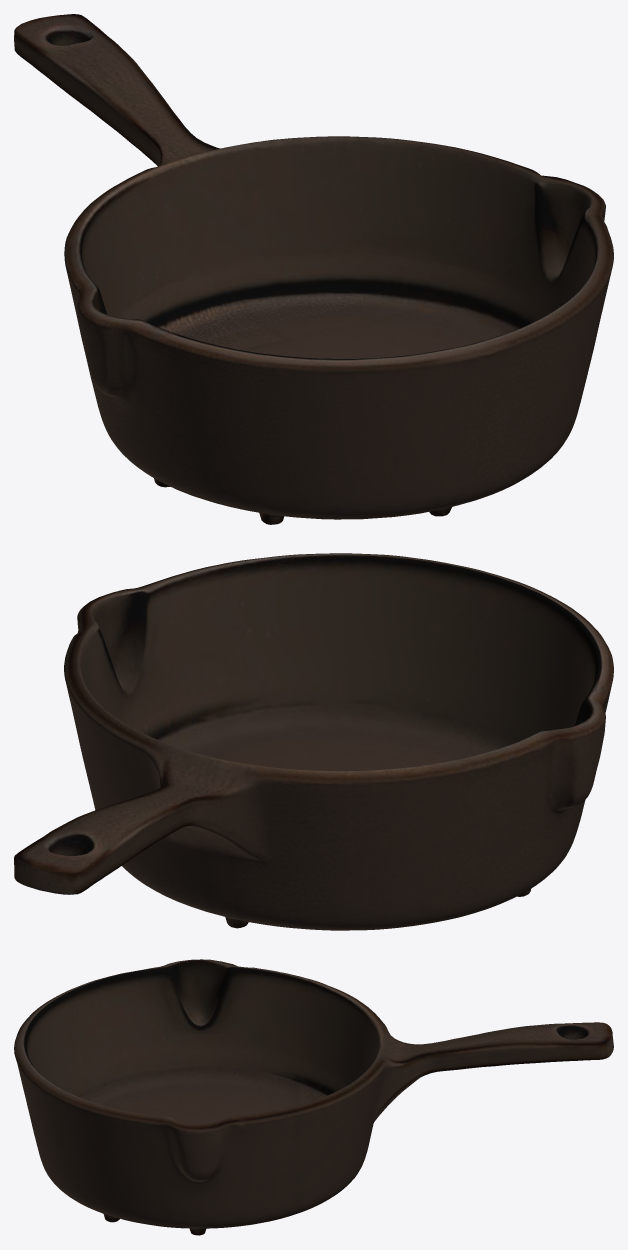
Rendered from skillet.glb.
The picture shows the model from 3 angles, top to bottom: view 1: azimuth 30°, elevation 25°; view 2: azimuth 150°, elevation 25°; view 3: azimuth 270°, elevation 25°; orthographic projection. The views are drawn at different scales.
Visible parts, largest first — view 1: tripo_node_cd32489a-f6cf-4075-a81e-65ee6df37b38; view 2: tripo_node_cd32489a-f6cf-4075-a81e-65ee6df37b38; view 3: tripo_node_cd32489a-f6cf-4075-a81e-65ee6df37b38.
Boxes of the visible parts, left/top/right/bottom form: tripo_node_cd32489a-f6cf-4075-a81e-65ee6df37b38: left=14, top=14, right=613, bottom=524; tripo_node_cd32489a-f6cf-4075-a81e-65ee6df37b38: left=14, top=553, right=613, bottom=930; tripo_node_cd32489a-f6cf-4075-a81e-65ee6df37b38: left=14, top=959, right=613, bottom=1235.
Bounding box in the file's own units: 0.6759 × 0.2678 × 1.
Materials: 1 (1 with a texture image).
